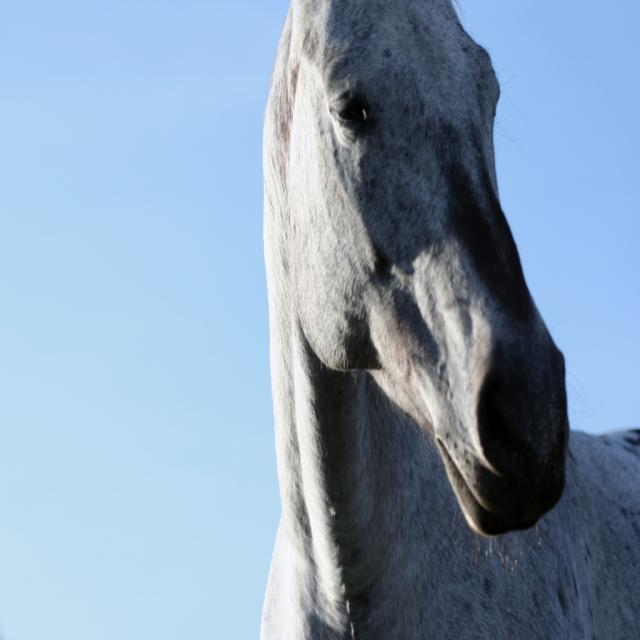Horse: (259, 0, 639, 639)
